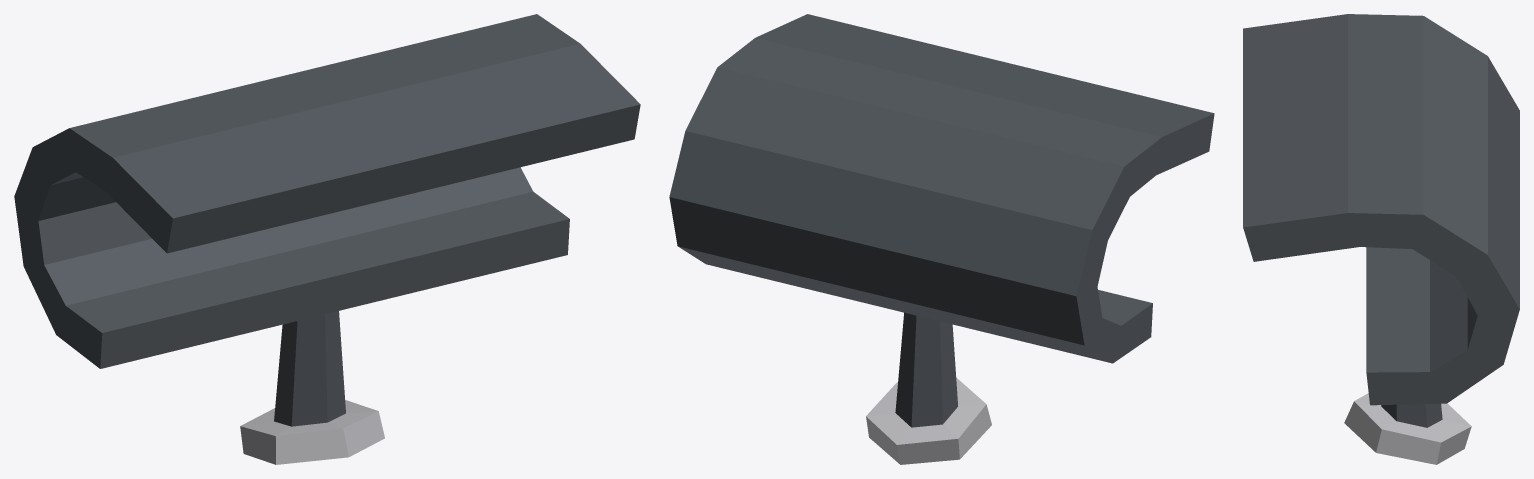
File: Dropship_05_Radar.fbx
The picture shows the model from 3 angles, left to right: view 1: azimuth 30°, elevation 25°; view 2: azimuth 150°, elevation 25°; view 3: azimuth 270°, elevation 25°; orthographic projection. The views are drawn at different scales.
Visible parts, largest first — view 1: Dropship_05_Radar; view 2: Dropship_05_Radar; view 3: Dropship_05_Radar.
Boxes of the visible parts, left/top/right/bottom form: Dropship_05_Radar: left=14, top=14, right=640, bottom=464; Dropship_05_Radar: left=669, top=14, right=1214, bottom=464; Dropship_05_Radar: left=1243, top=14, right=1519, bottom=464.
Size of the model in its own units: 129 by 102 by 76.1.
Materials: 1 (1 with a texture image).
